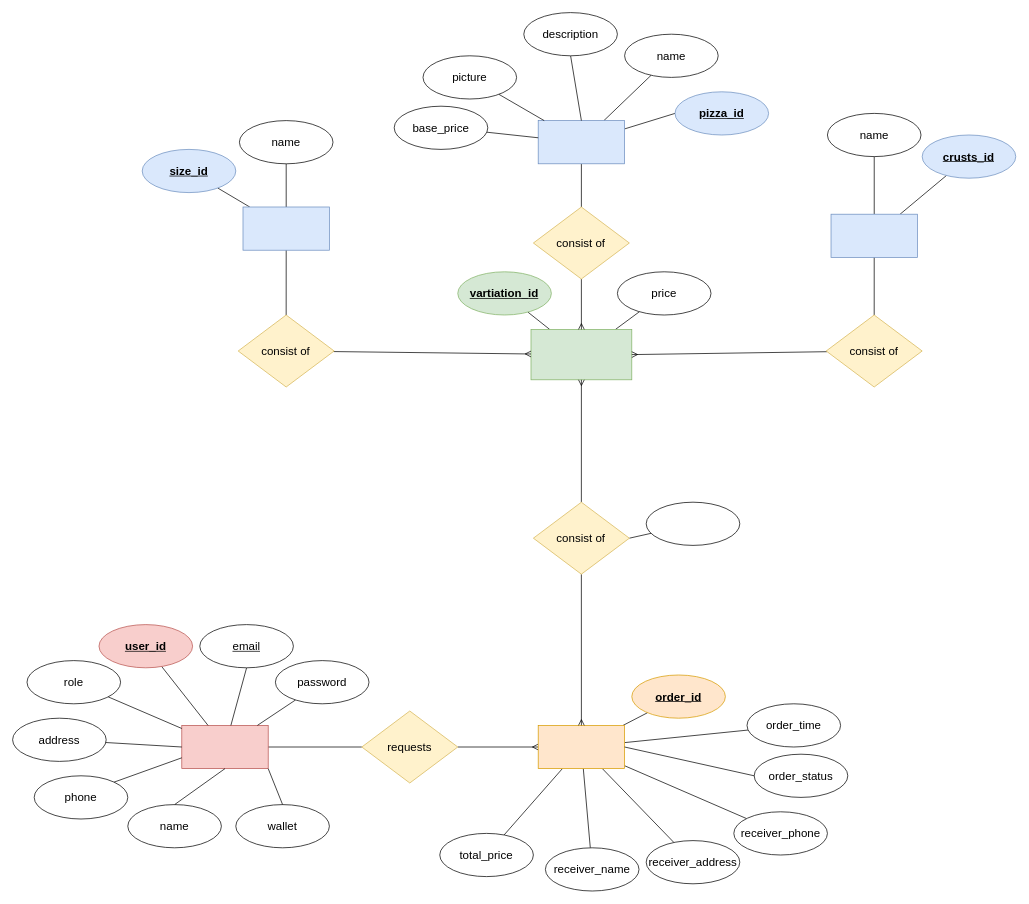
Image size: 1029x904. Some labels were removed from this diagram. Here are the shapes that lost their labels. From the top down, the box of each, then its label:
(537, 120, 625, 164): Pizzas
(242, 206, 329, 250): pizza_sizes
(830, 213, 917, 257): pizza_crusts
(530, 329, 632, 380): pizza_variations
(645, 501, 740, 545): quantity
(181, 725, 268, 769): Users
(537, 725, 625, 769): Orders
